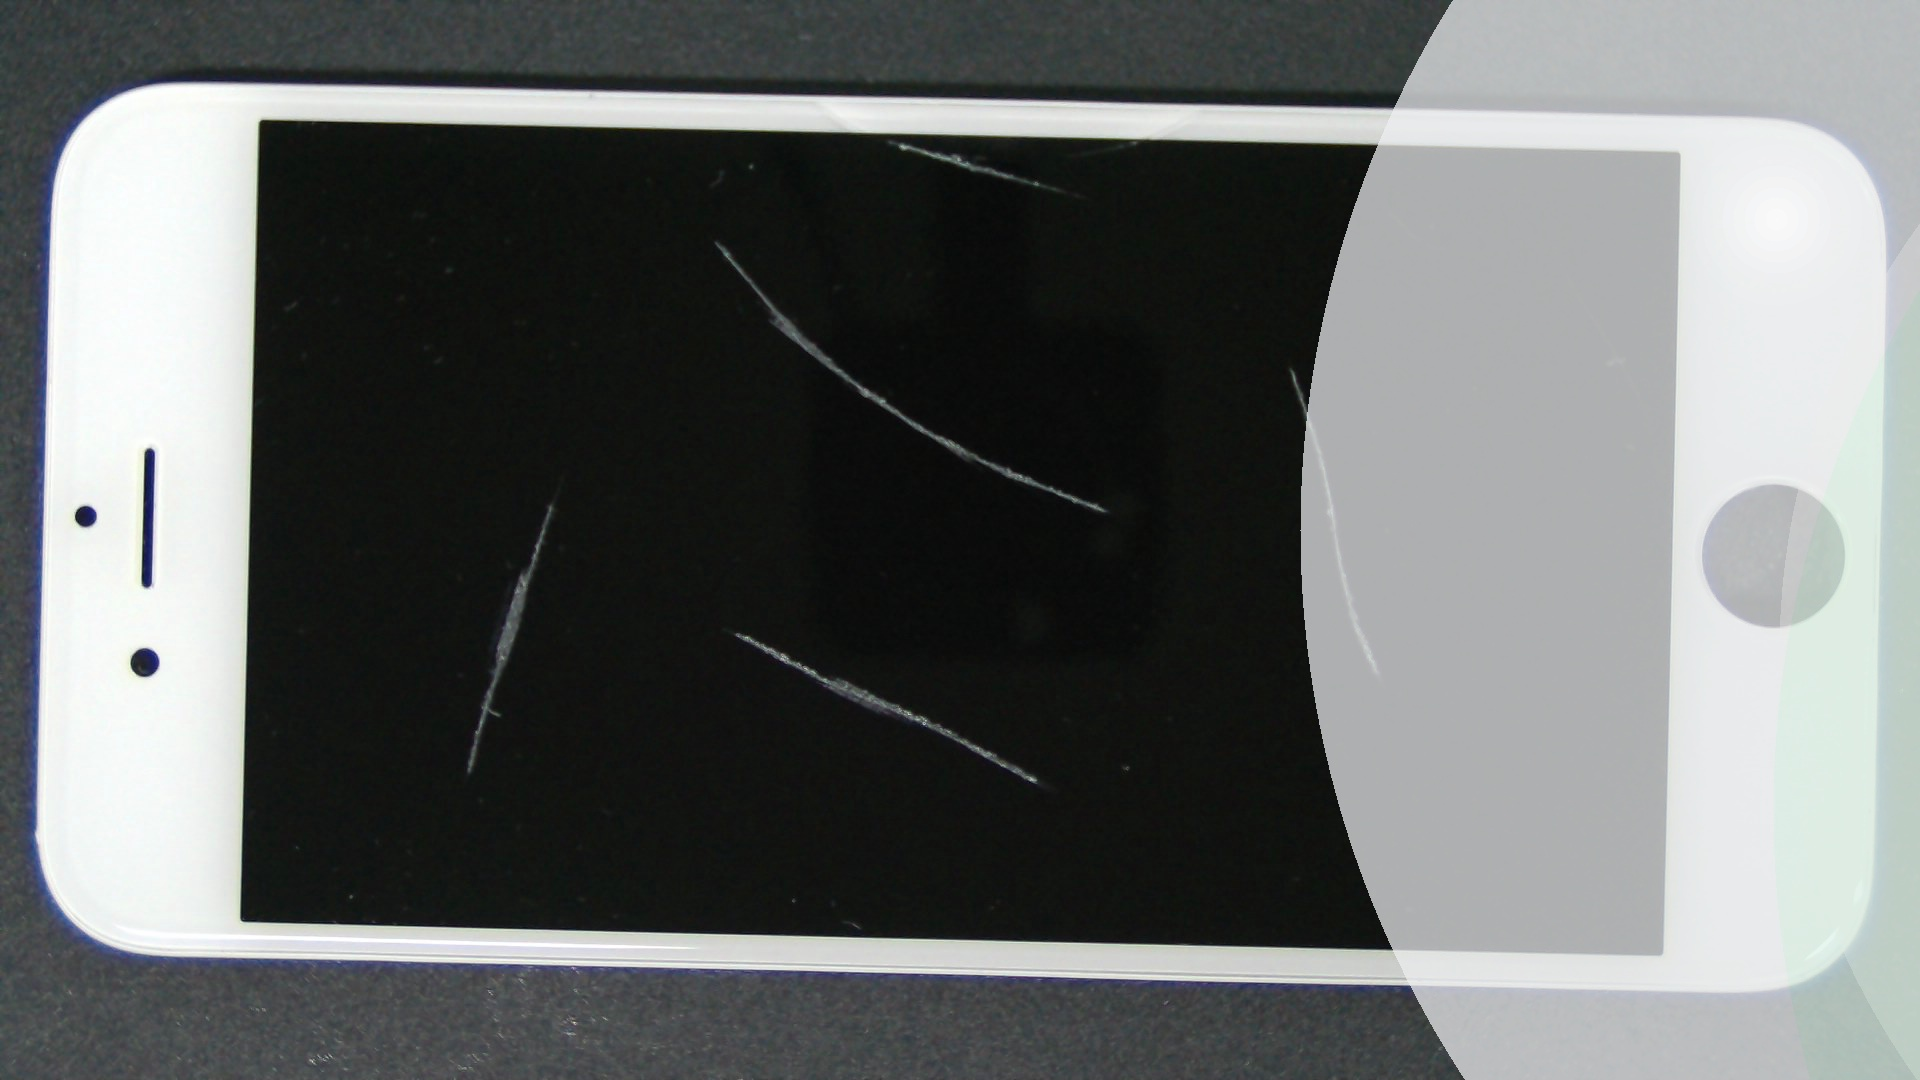oil: (644, 183, 1920, 551), (368, 315, 1102, 947), (276, 251, 825, 756), (357, 119, 1071, 363), (444, 69, 1333, 208)
